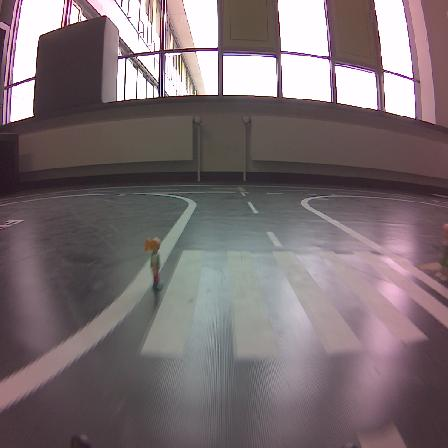CHILD: (145, 238, 162, 289)
PERSON: (436, 223, 447, 280)
